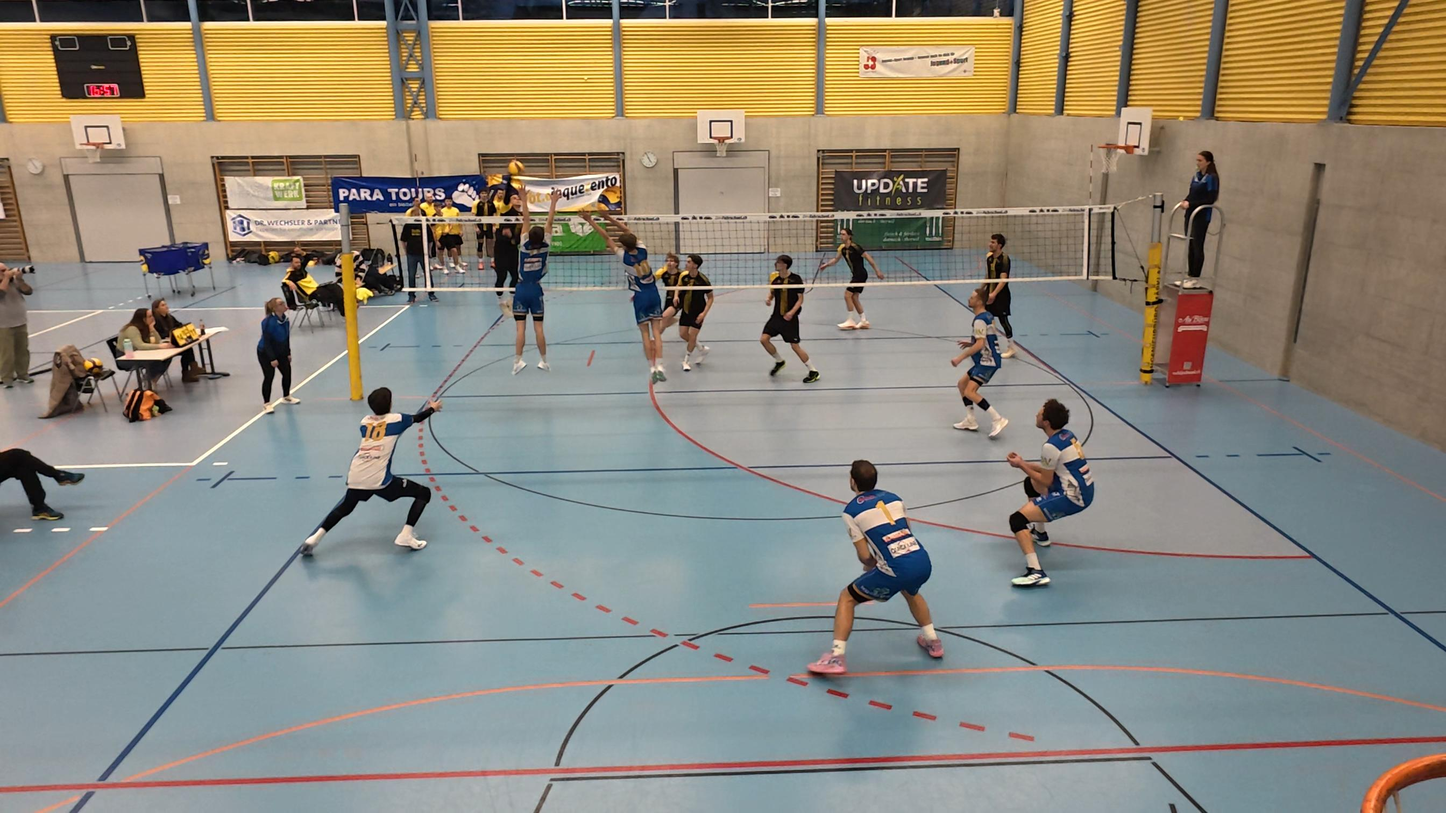attacco: (477, 162, 526, 342)
muro: (590, 212, 675, 388), (508, 197, 558, 376)
